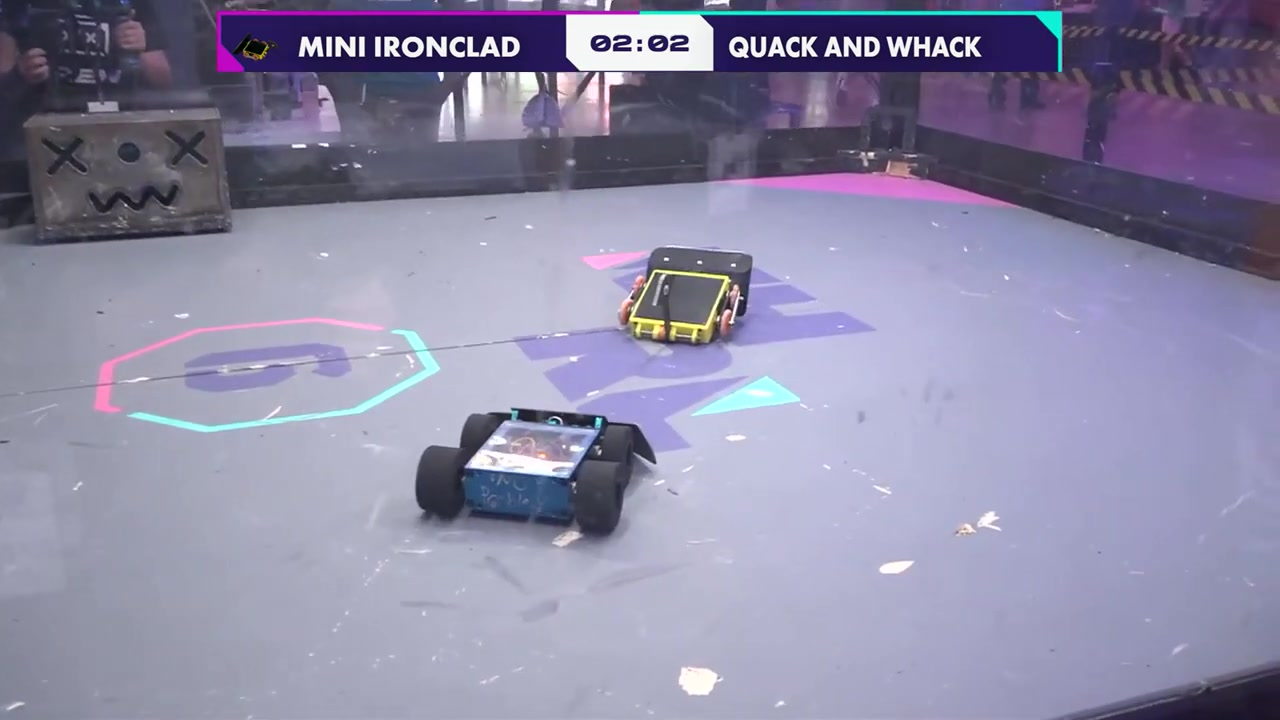combatbot: (414, 406, 658, 538), (616, 247, 753, 348)
housebot: (22, 107, 233, 243)
